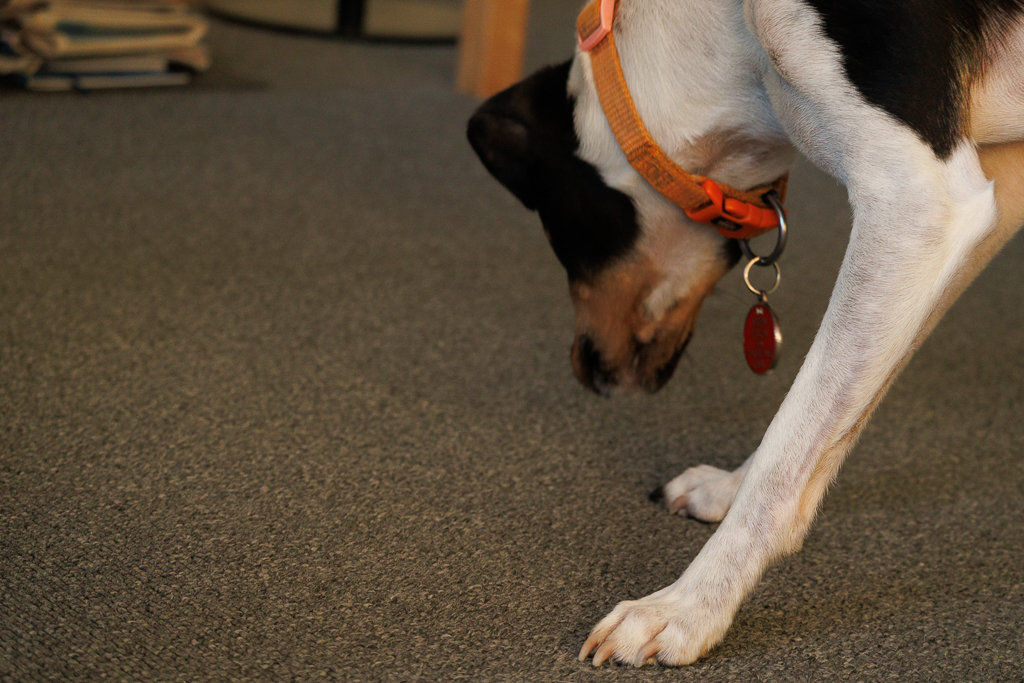Dog: (460, 0, 1023, 674)
